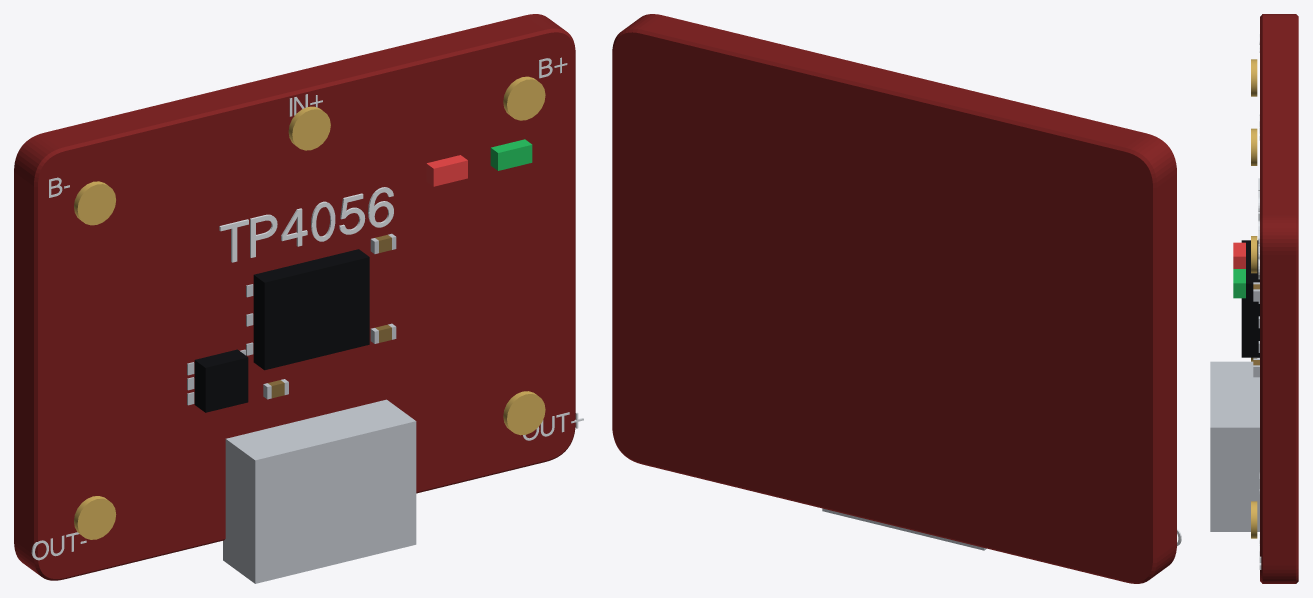
3 renders of one model, left to right at view 1: azimuth 30°, elevation 25°; view 2: azimuth 150°, elevation 25°; view 3: azimuth 270°, elevation 25°, orthographic. The views are drawn at different scales.
Parts seen in each view (by area): view 1: TP4056_Charger; view 2: TP4056_Charger; view 3: TP4056_Charger.
Boxes of the visible parts, <box> form: TP4056_Charger: <box>14,14,583,583</box>; TP4056_Charger: <box>612,14,1181,583</box>; TP4056_Charger: <box>1210,14,1298,583</box>.
Bounding box in the file's own units: 25.68 × 20.17 × 4.22.
